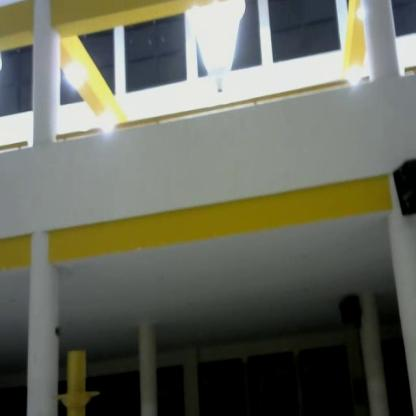pole: (50, 346, 106, 416)
